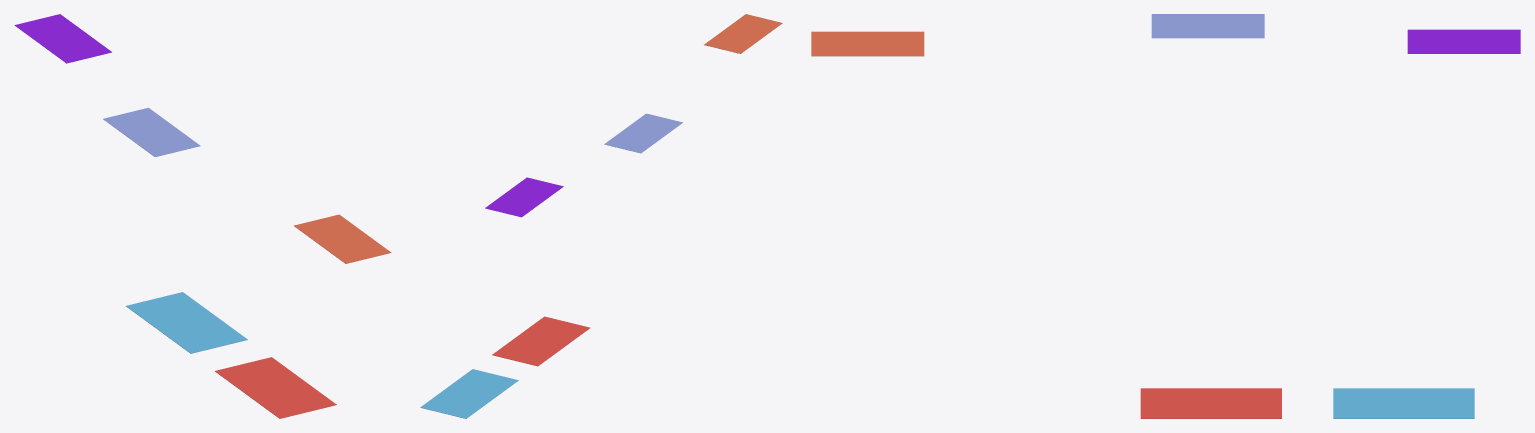
Rendered from Tiles.glb.
3 views of the same model, side by side, from view 1: azimuth 30°, elevation 25°; view 2: azimuth 150°, elevation 25°; view 3: azimuth 270°, elevation 25° (orthographic). The views are drawn at different scales.
Visible parts, largest first — view 1: Cube.006, Cube.005, Cube.003, Cube.002, Cube.004; view 2: Cube.005, Cube.006, Cube.004, Cube.002, Cube.003; view 3: Cube.005, Cube.006, Cube.004, Cube.002, Cube.003.
Part boxes in pixels (bbox=[...]): Cube.006: bbox=[126, 292, 247, 353]; Cube.005: bbox=[215, 357, 336, 418]; Cube.003: bbox=[103, 107, 200, 156]; Cube.002: bbox=[14, 14, 111, 63]; Cube.004: bbox=[294, 214, 391, 263]; Cube.005: bbox=[492, 316, 590, 366]; Cube.006: bbox=[420, 369, 518, 418]; Cube.004: bbox=[704, 14, 782, 53]; Cube.002: bbox=[485, 177, 563, 217]; Cube.003: bbox=[604, 113, 682, 153]; Cube.005: bbox=[1140, 388, 1281, 418]; Cube.006: bbox=[1333, 388, 1474, 418]; Cube.004: bbox=[811, 31, 924, 56]; Cube.002: bbox=[1407, 29, 1520, 53]; Cube.003: bbox=[1151, 14, 1264, 38].
Size of the model in its own units: 2.29 by 3.56 by 7.36.
